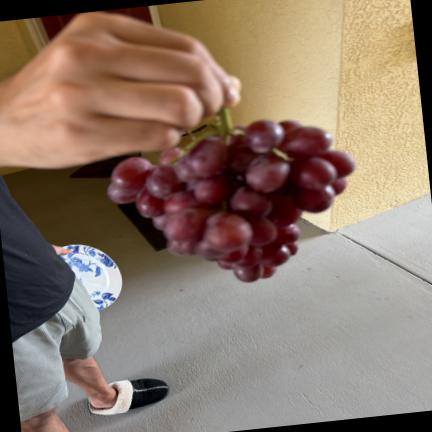grape_cluster: (107, 110, 355, 282)
